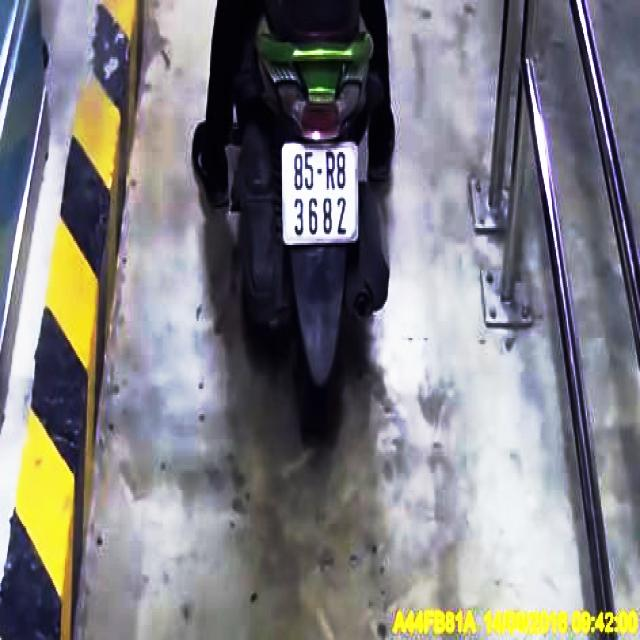license_plate: (281, 143, 360, 243)
